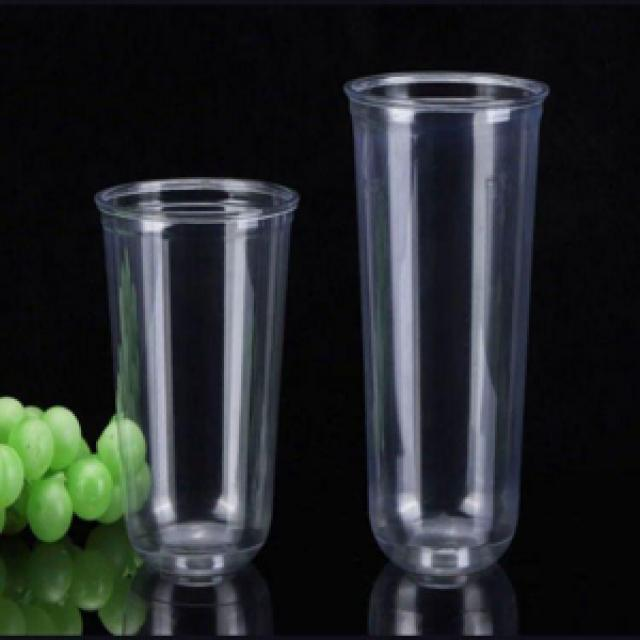plastic cup: (337, 68, 553, 587), (90, 177, 300, 585)
